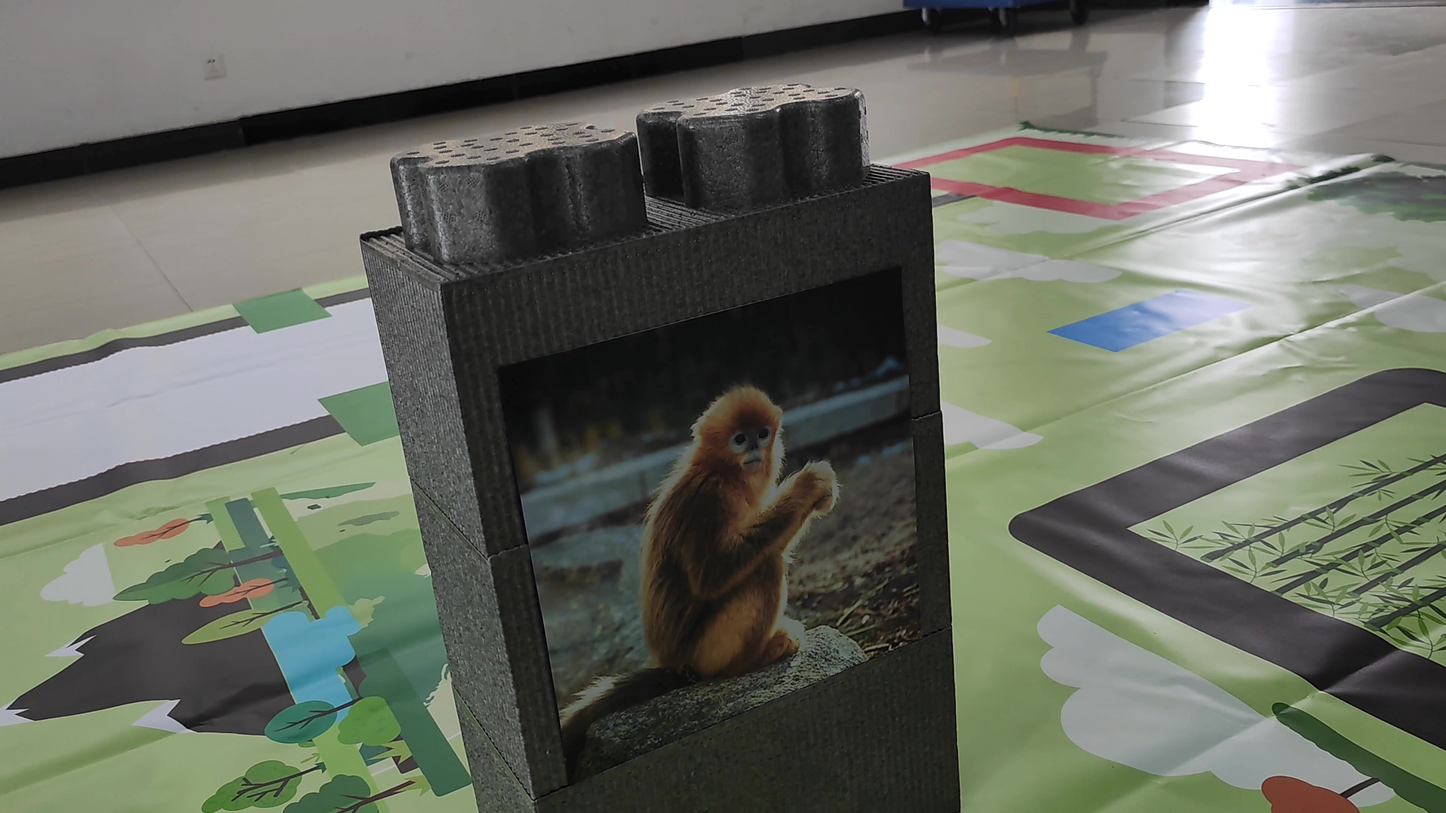monkey: (547, 379, 862, 740)
